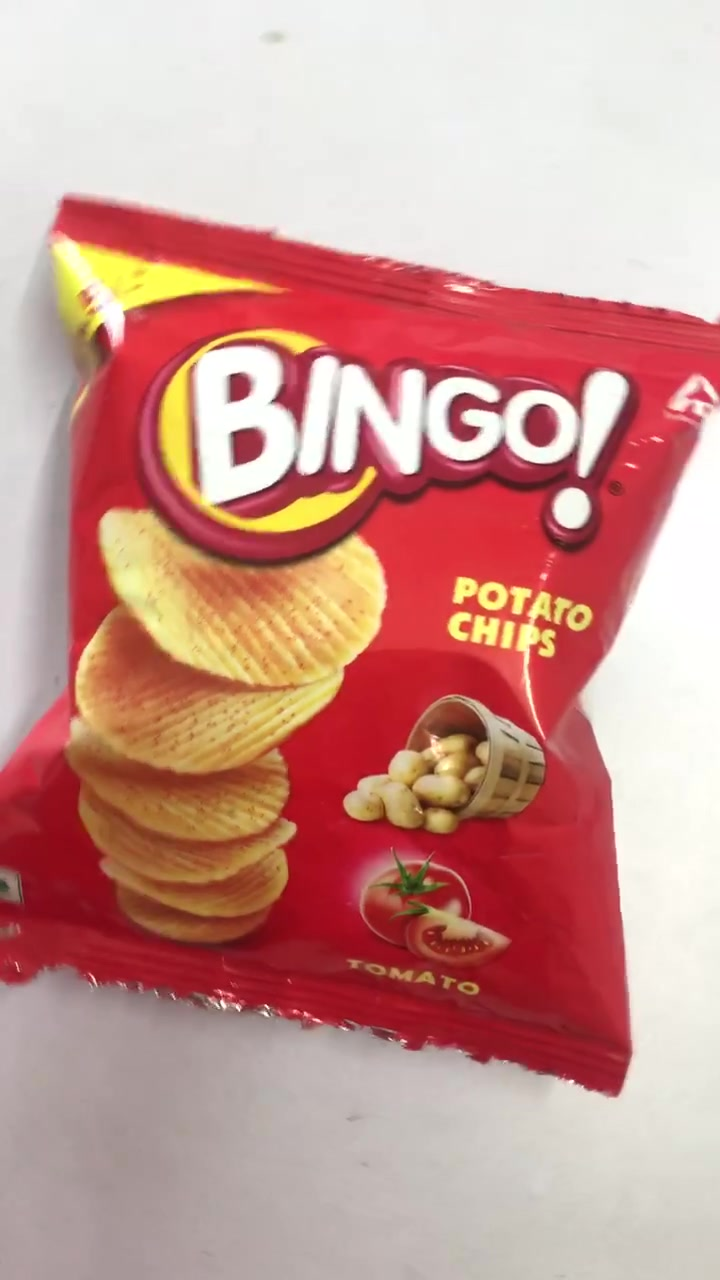Bingo: (5, 192, 720, 1090)
